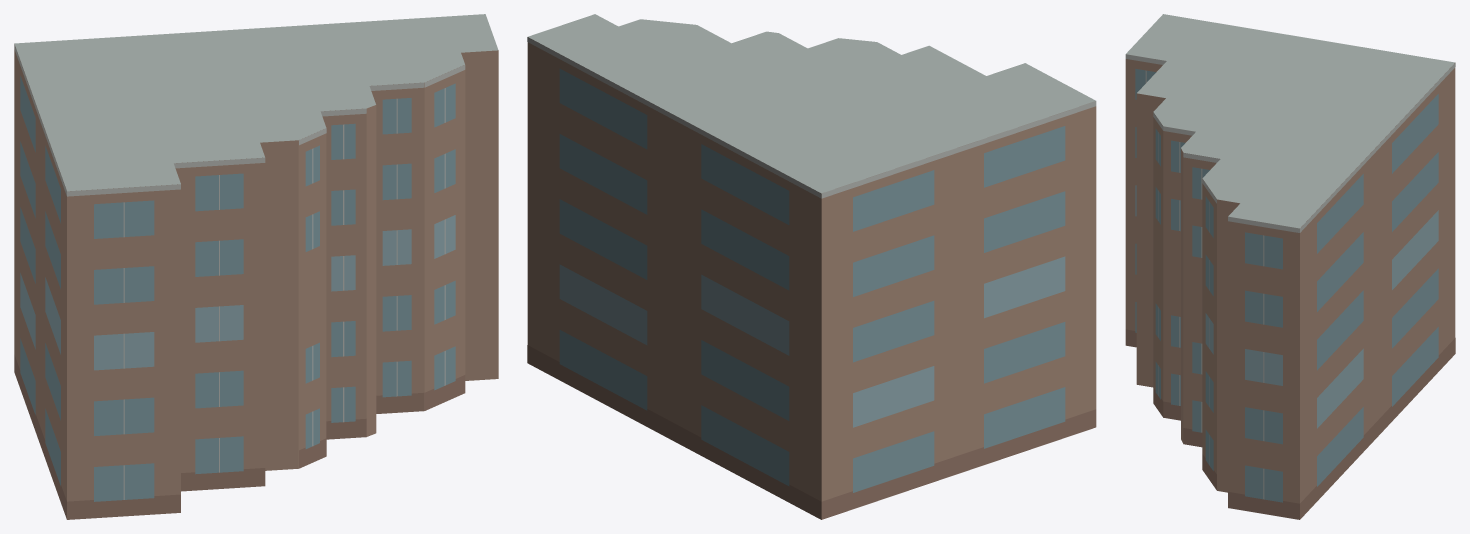
File: survey-upis-32618038.glb
3 views of the same model, side by side, from view 1: azimuth 30°, elevation 25°; view 2: azimuth 150°, elevation 25°; view 3: azimuth 270°, elevation 25° (orthographic). The views are drawn at different scales.
Visible parts, largest first — view 1: survey-upis-32618038.tmp; view 2: survey-upis-32618038.tmp; view 3: survey-upis-32618038.tmp.
Boxes of the visible parts, bbox=[...] form: survey-upis-32618038.tmp: bbox=[14, 14, 498, 519]; survey-upis-32618038.tmp: bbox=[527, 14, 1096, 519]; survey-upis-32618038.tmp: bbox=[1125, 14, 1455, 519].
Size of the model in its own units: 24.08 by 15.25 by 15.65.
